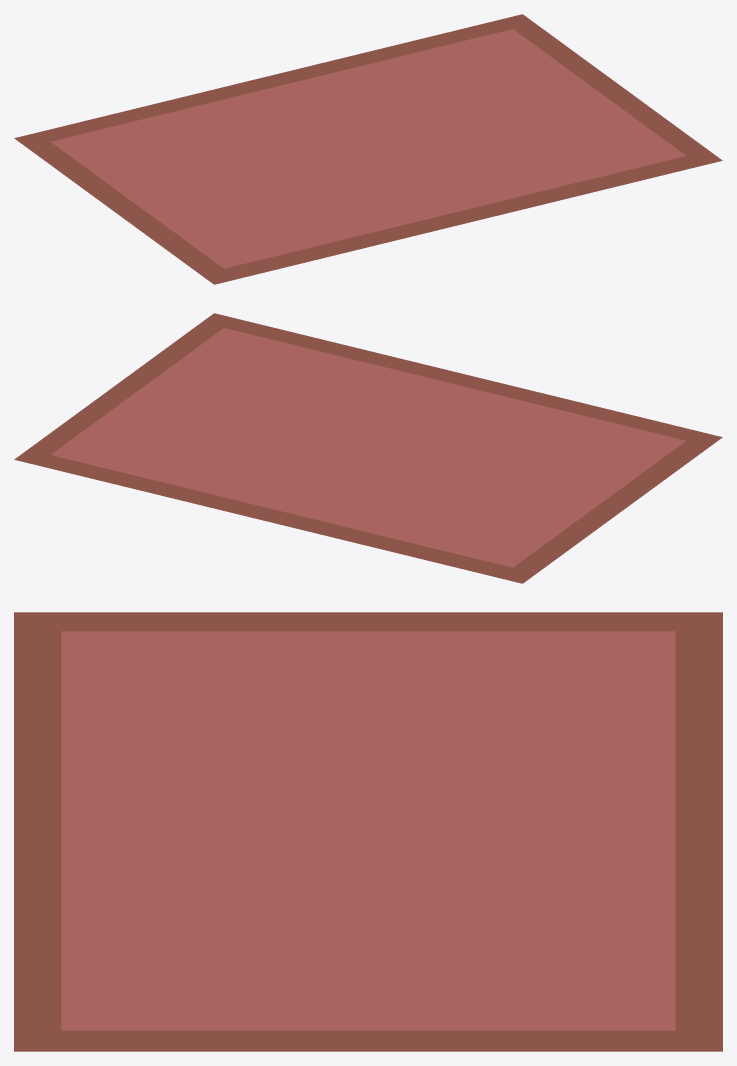
File: tapete_1975.glb
The picture shows the model from 3 angles, top to bottom: view 1: azimuth 30°, elevation 25°; view 2: azimuth 150°, elevation 25°; view 3: azimuth 270°, elevation 25°; orthographic projection. The views are drawn at different scales.
Parts seen in each view (by area): view 1: Malha_0; view 2: Malha_0; view 3: Malha_0.
Part boxes in pixels (box(x1,y1,x2,y2)): Malha_0: box(14, 14, 722, 284); Malha_0: box(14, 313, 722, 583); Malha_0: box(14, 612, 722, 1051).
Bounding box in the file's own units: 4.4 × 0.005 × 3.
